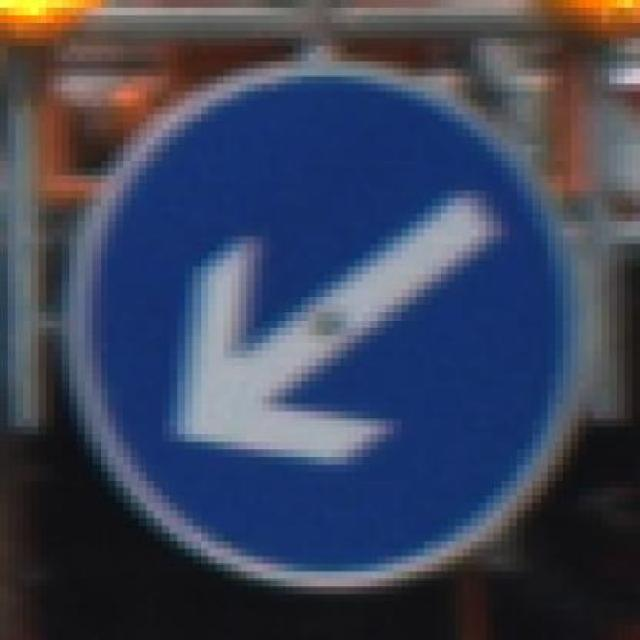Keep-Left: (61, 53, 602, 602)
